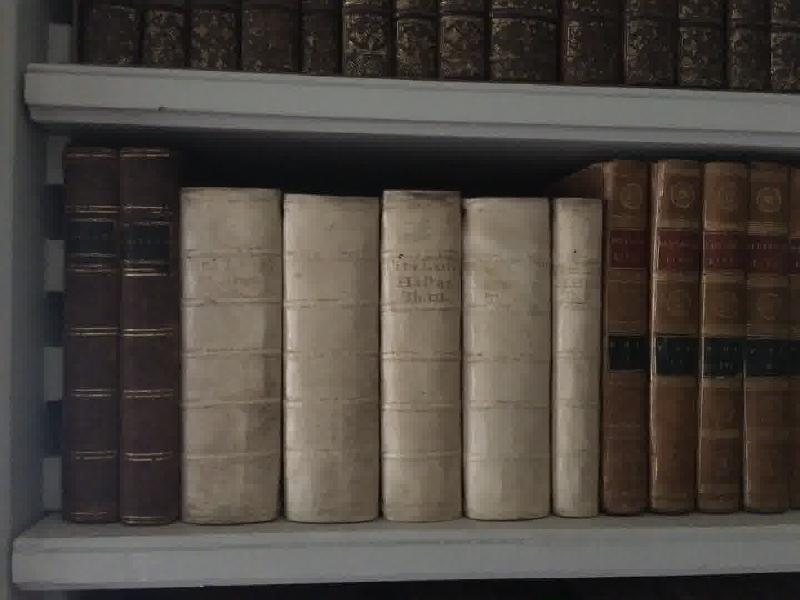Kk4-1_2: (57, 137, 184, 536)
Kk4-3_7: (176, 174, 607, 527)
Kk4-8_13: (595, 140, 800, 530)
